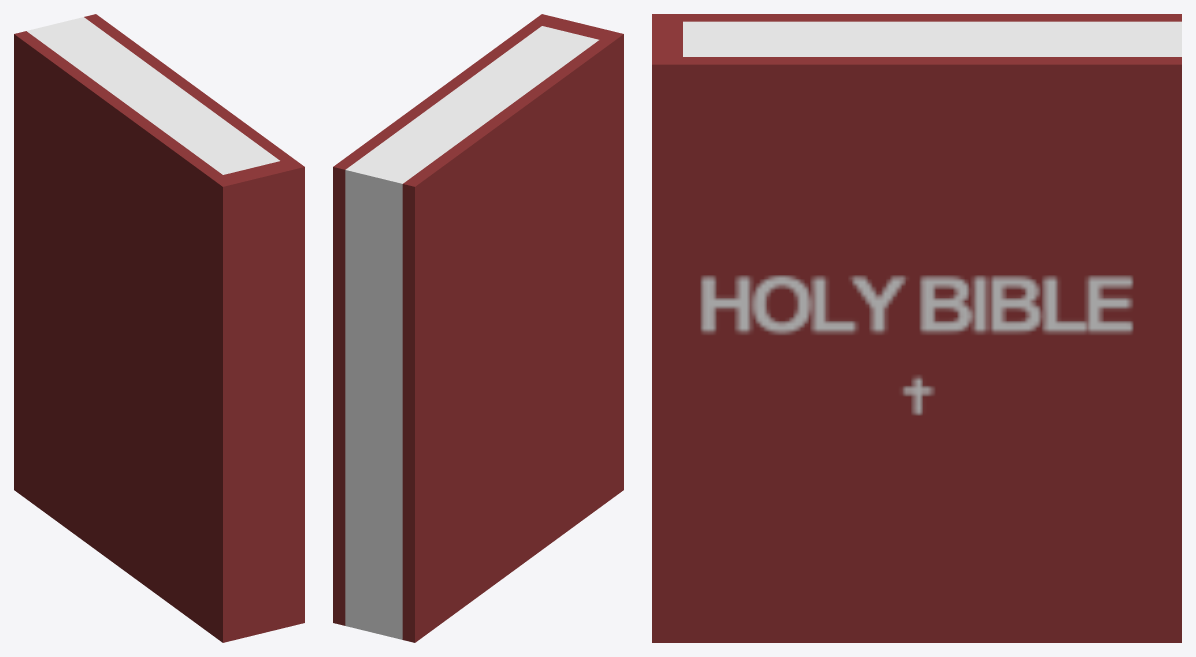
File: Bible.fbx
The picture shows the model from 3 angles, left to right: view 1: azimuth 30°, elevation 25°; view 2: azimuth 150°, elevation 25°; view 3: azimuth 270°, elevation 25°; orthographic projection. The views are drawn at different scales.
Parts seen in each view (by area): view 1: SM_Prop_Book_01; view 2: SM_Prop_Book_01; view 3: SM_Prop_Book_01.
Boxes of the visible parts, bbox=[...] form: SM_Prop_Book_01: bbox=[14, 14, 304, 642]; SM_Prop_Book_01: bbox=[333, 14, 623, 642]; SM_Prop_Book_01: bbox=[652, 14, 1181, 642].
Bounding box in the file's own units: 6.5 × 34.54 × 28.68.
1 material, 1 textured.
